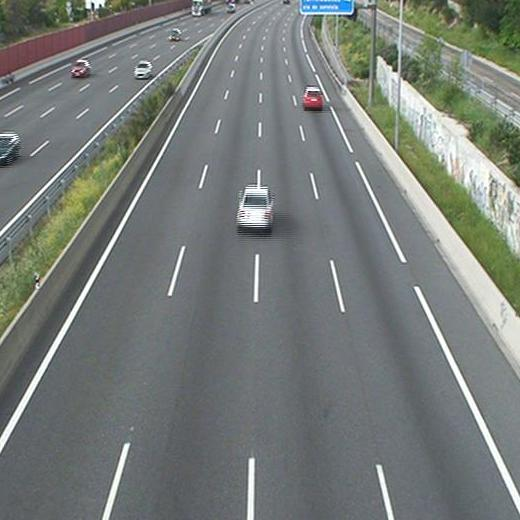car: (237, 187, 272, 226), (303, 87, 324, 108)
